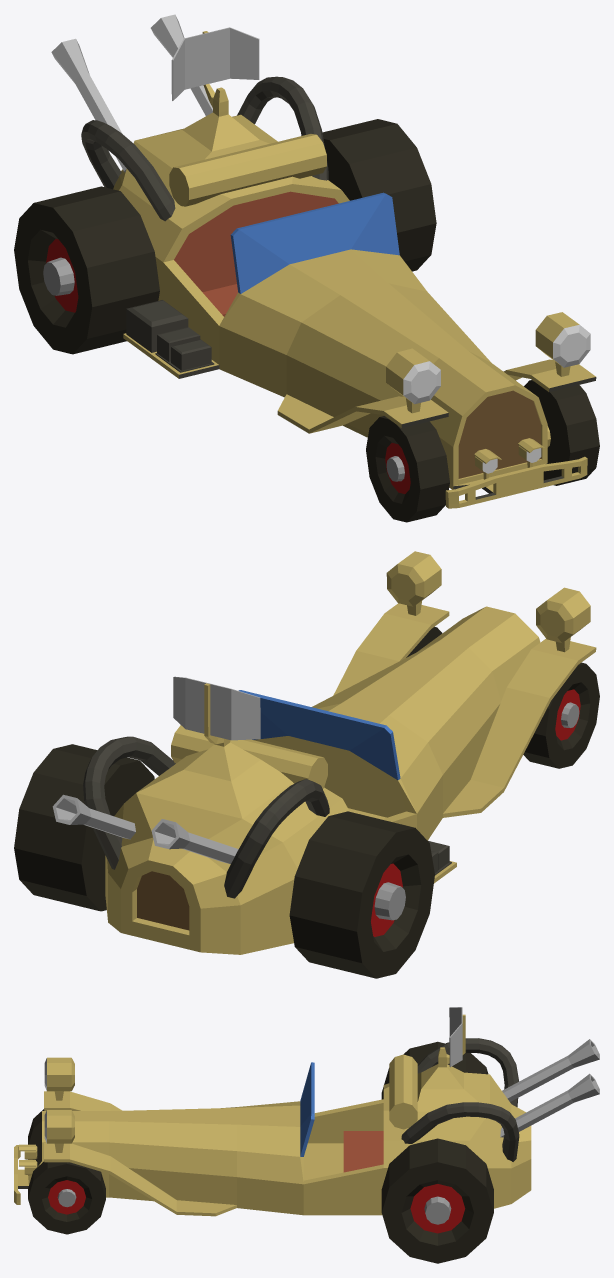
The model's file is Il_Tempo_Gigante.fbx.
The picture shows the model from 3 angles, top to bottom: view 1: azimuth 30°, elevation 25°; view 2: azimuth 150°, elevation 25°; view 3: azimuth 270°, elevation 25°; orthographic projection. The views are drawn at different scales.
Visible parts, largest first — view 1: Pipes_Back2, Wheel_Back1, Wheel_Back, Wheel_Front1, Light_Head4, Antenna, Wheel_Front; view 2: Pipes_Back2, Wheel_Back1, Wheel_Back, Wheel_Front1, Light_Head4, Antenna; view 3: Pipes_Back2, Wheel_Back, Wheel_Front, Light_Head4, Antenna, Wheel_Back1, Wheel_Front1.
Boxes of the visible parts, x1=… form: Pipes_Back2: x1=51, y1=14, x2=596, y2=508; Wheel_Back1: x1=14, y1=186, x2=159, y2=354; Wheel_Back: x1=322, y1=119, x2=436, y2=271; Wheel_Front1: x1=366, y1=416, x2=449, y2=522; Light_Head4: x1=386, y1=312, x2=590, y2=486; Antenna: x1=171, y1=27, x2=259, y2=116; Wheel_Front: x1=524, y1=380, x2=599, y2=485; Pipes_Back2: x1=52, y1=603, x2=596, y2=954; Wheel_Back1: x1=289, y1=811, x2=434, y2=978; Wheel_Back: x1=14, y1=744, x2=154, y2=911; Wheel_Front1: x1=523, y1=662, x2=599, y2=768; Light_Head4: x1=386, y1=551, x2=590, y2=652; Antenna: x1=173, y1=676, x2=260, y2=746; Pipes_Back2: x1=14, y1=1038, x2=599, y2=1216; Wheel_Back: x1=381, y1=1138, x2=493, y2=1263; Wheel_Front: x1=28, y1=1161, x2=105, y2=1234; Light_Head4: x1=19, y1=1057, x2=74, y2=1184; Antenna: x1=438, y1=1007, x2=465, y2=1067; Wheel_Back1: x1=381, y1=1041, x2=488, y2=1099; Wheel_Front1: x1=28, y1=1109, x2=44, y2=1166.
Size of the model in its own units: 367 by 266 by 750.
